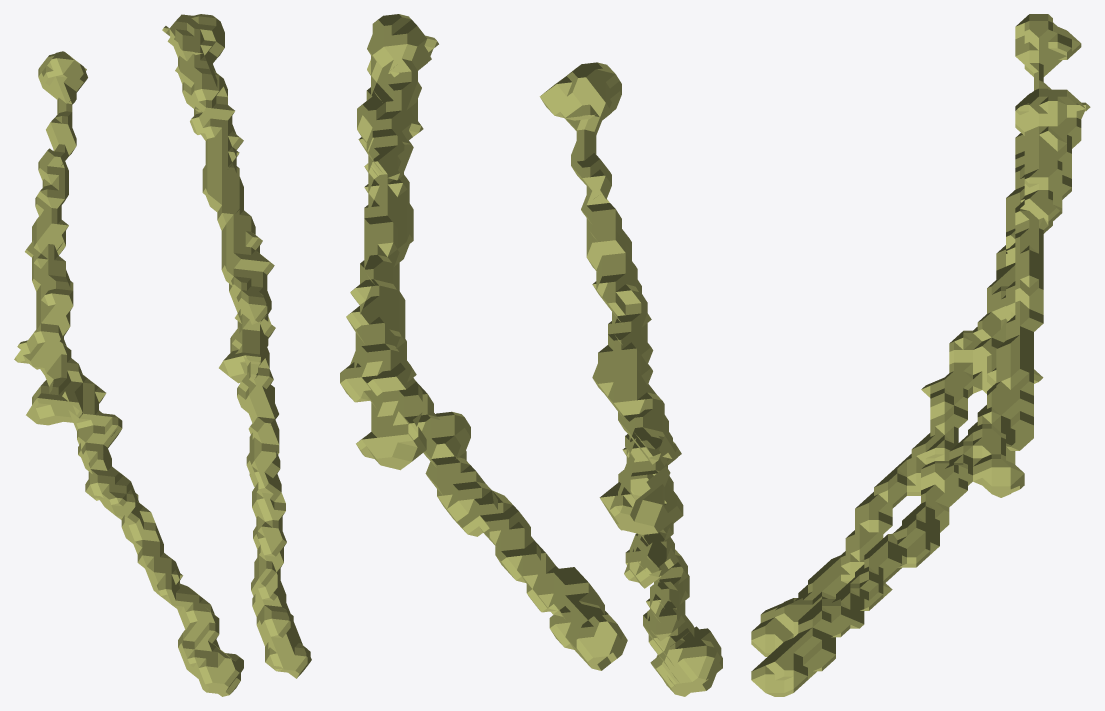
The model's file is region_0058_FR__habenulo-interpeduncular_tract_.glb.
3 views of the same model, side by side, from view 1: azimuth 30°, elevation 25°; view 2: azimuth 150°, elevation 25°; view 3: azimuth 270°, elevation 25° (orthographic). The views are drawn at different scales.
Parts seen in each view (by area): view 1: world; view 2: world; view 3: world.
Part boxes in pixels (bbox=[...]): world: bbox=[14, 14, 311, 696]; world: bbox=[340, 14, 722, 696]; world: bbox=[751, 14, 1090, 696].
Bounding box in the file's own units: 0.272 × 0.576 × 0.288.
